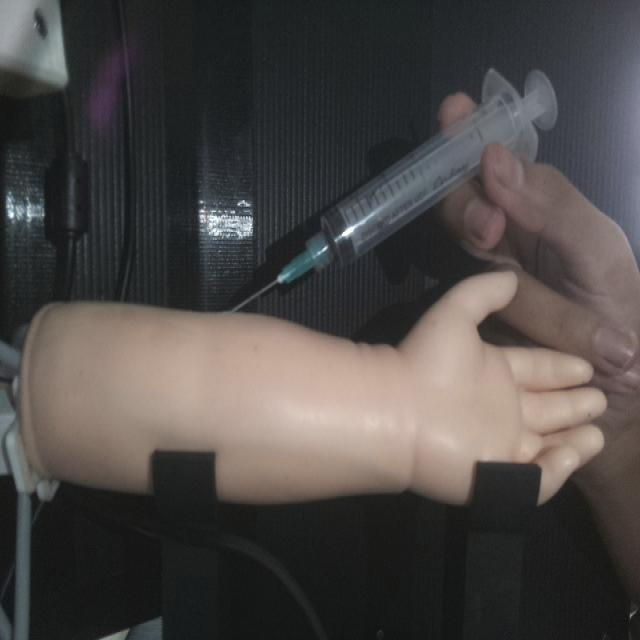Above 30 degrees: (224, 63, 559, 314)
